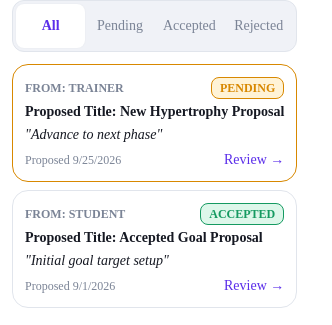
GoalProposalsTab › filters proposals and resets pagination when filter changes
Click the tab with test id "proposals-filter-pending". click: [120, 26]
box: [97, 18, 143, 33]
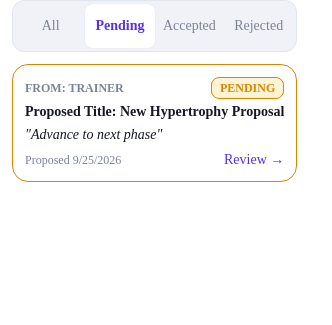
Expected: the button with test id "proposal-item-prop-pending-1" is shown, [12, 64, 297, 182]
Now no buttons with test id "proposal-item-prop-accepted-2" are shown
